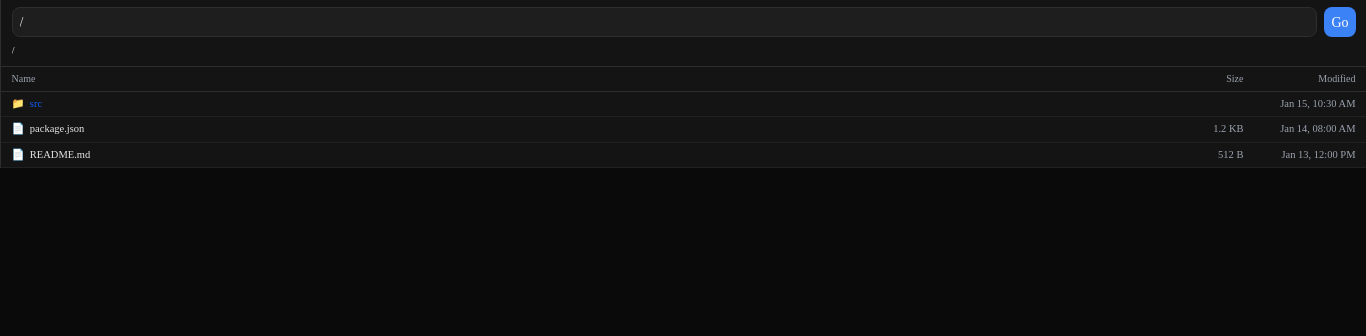
Test: FileBrowser › file content display › shows file content when a file is clicked
Click the text "package.json": (57, 129) [30,123,84,134]
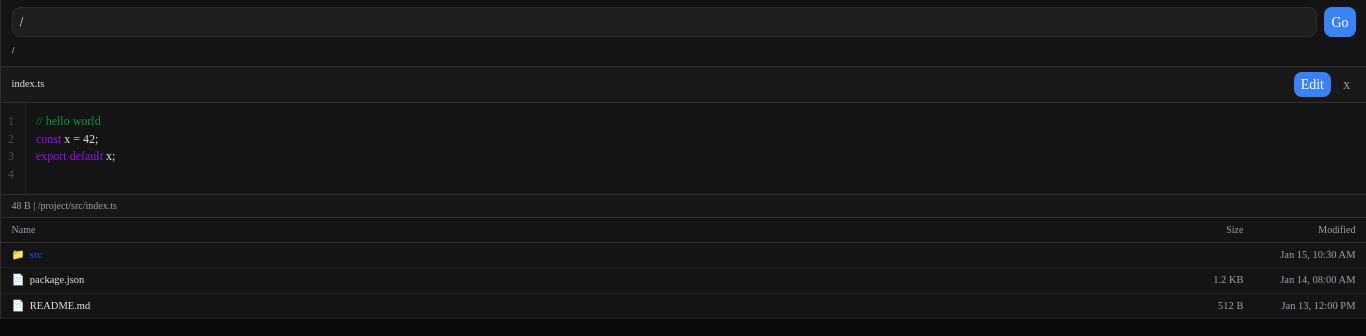
Now the text "// hello world" is shown, box [36,114,101,128]
